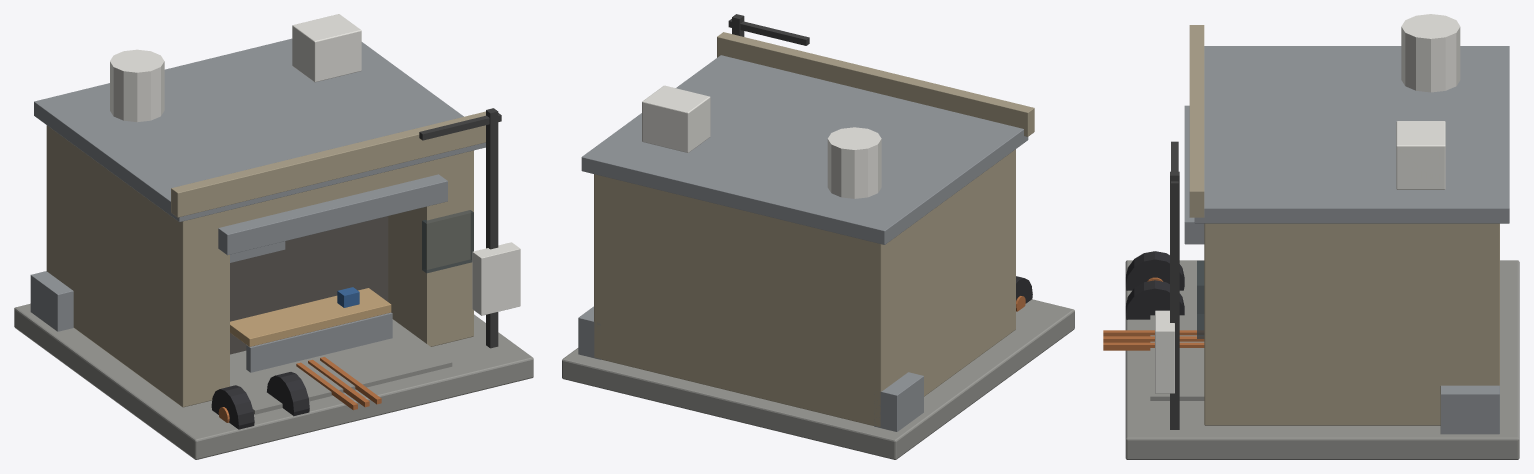
Rendered from elektrikci.glb.
3 views of the same model, side by side, from view 1: azimuth 30°, elevation 25°; view 2: azimuth 150°, elevation 25°; view 3: azimuth 270°, elevation 25° (orthographic). The views are drawn at different scales.
Visible parts, largest first — view 1: P; view 2: P; view 3: P.
Part boxes in pixels (bbox=[...]): P: bbox=[14, 14, 533, 459]; P: bbox=[562, 14, 1074, 459]; P: bbox=[1103, 14, 1519, 459].
Size of the model in its own units: 1 by 0.7791 by 0.9826.
